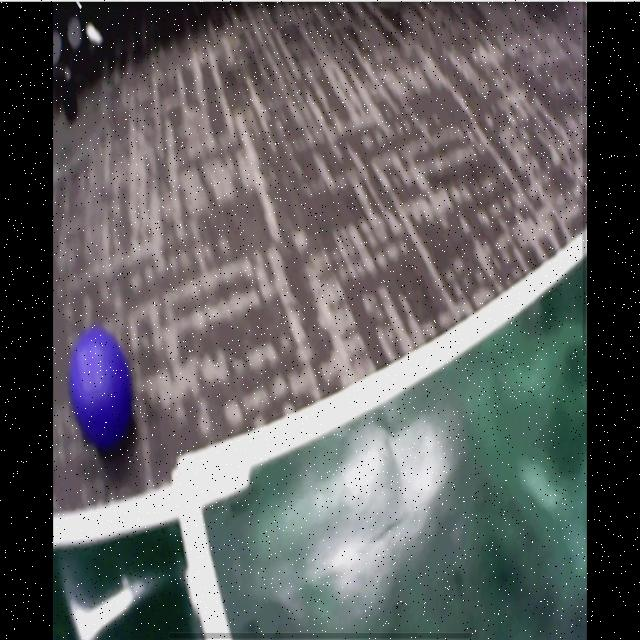ball: (71, 328, 136, 448)
